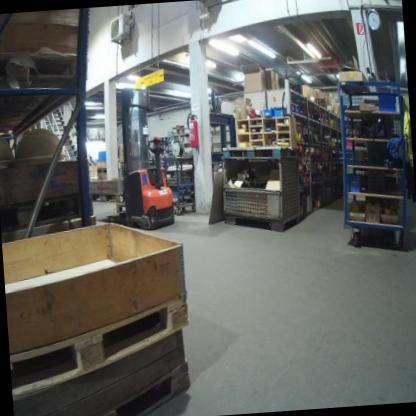pallet: (6, 288, 196, 401)
pallet_truck: (96, 81, 179, 236)
small_load_carrier: (378, 91, 398, 114), (345, 174, 364, 192)
stillage: (219, 152, 305, 237)
